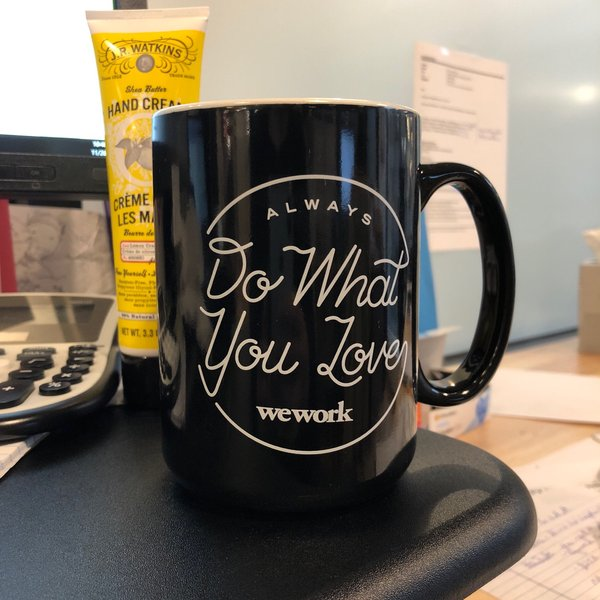wework: (251, 397, 358, 427)
